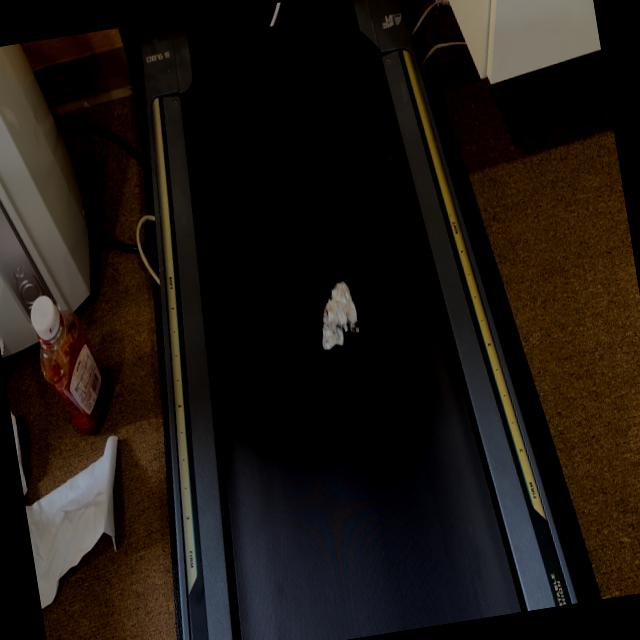Recycle: (308, 270, 378, 365), (262, 2, 283, 26)
